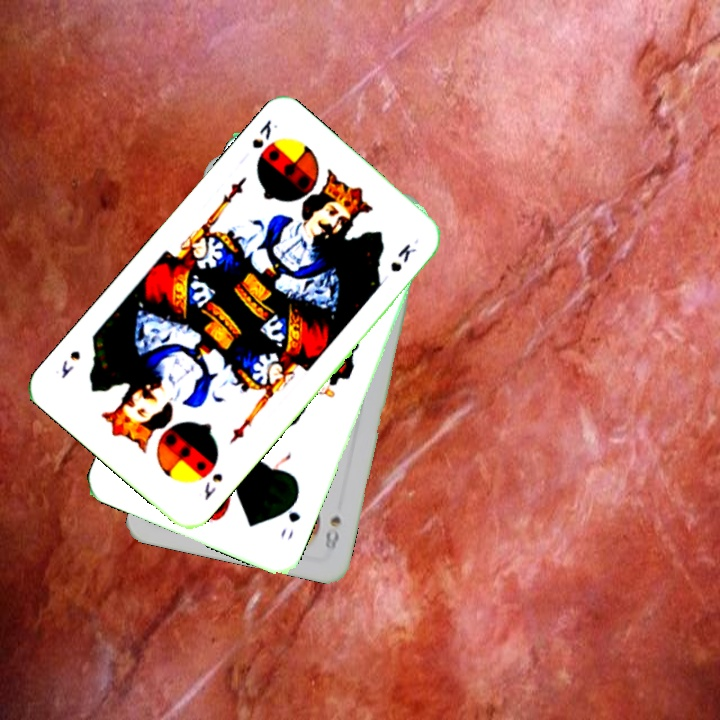GO: (276, 492, 304, 542)
S8: (320, 512, 344, 555)
SK: (247, 115, 281, 151), (199, 469, 226, 503)
